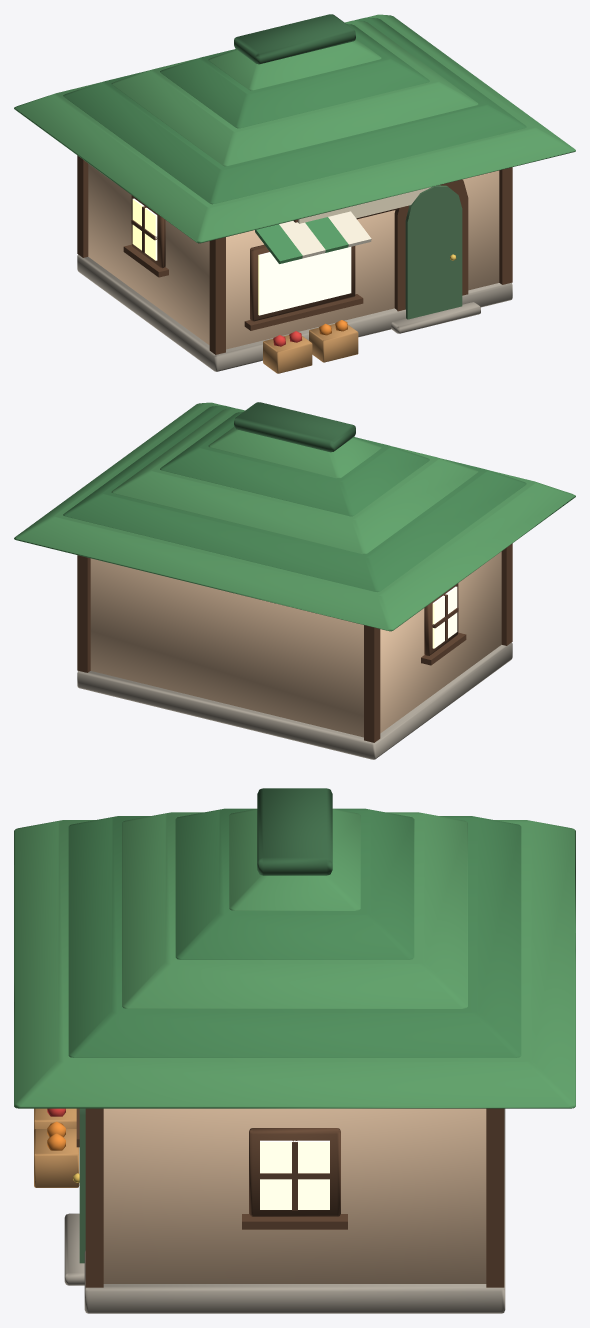
File: v_store.glb
The picture shows the model from 3 angles, top to bottom: view 1: azimuth 30°, elevation 25°; view 2: azimuth 150°, elevation 25°; view 3: azimuth 270°, elevation 25°; orthographic projection. The views are drawn at different scales.
Parts seen in each view (by area): view 1: Store; view 2: Store; view 3: Store.
Boxes of the visible parts, x1,y1,x2,y2 form: Store: [14, 14, 575, 373]; Store: [14, 402, 575, 759]; Store: [14, 788, 575, 1313].
Bounding box in the file's own units: 6.61 × 4.21 × 5.61.
